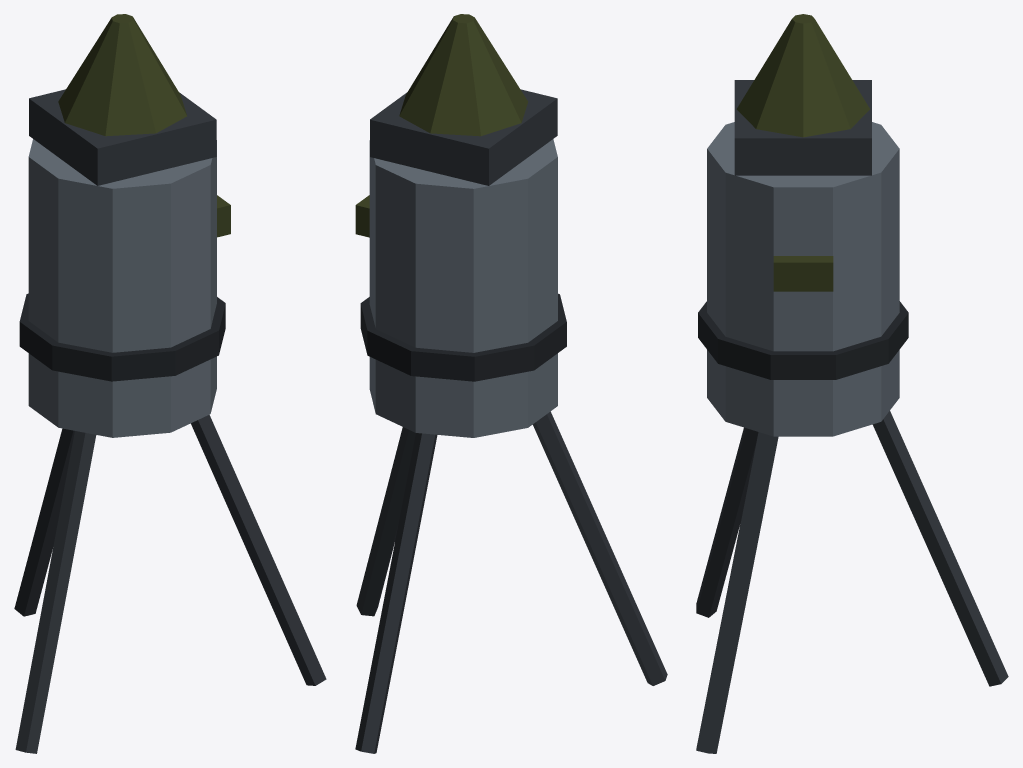
The model's file is prop_drone_beacon.fbx.
The picture shows the model from 3 angles, left to right: view 1: azimuth 30°, elevation 25°; view 2: azimuth 150°, elevation 25°; view 3: azimuth 270°, elevation 25°; orthographic projection.
Visible parts, largest first — view 1: prop_drone_beacon; view 2: prop_drone_beacon; view 3: prop_drone_beacon.
Boxes of the visible parts, x1=… form: prop_drone_beacon: x1=14, y1=14, x2=326, y2=753; prop_drone_beacon: x1=355, y1=14, x2=667, y2=753; prop_drone_beacon: x1=696, y1=14, x2=1008, y2=753.
Bounding box in the file's own units: 156 × 321 × 136.
